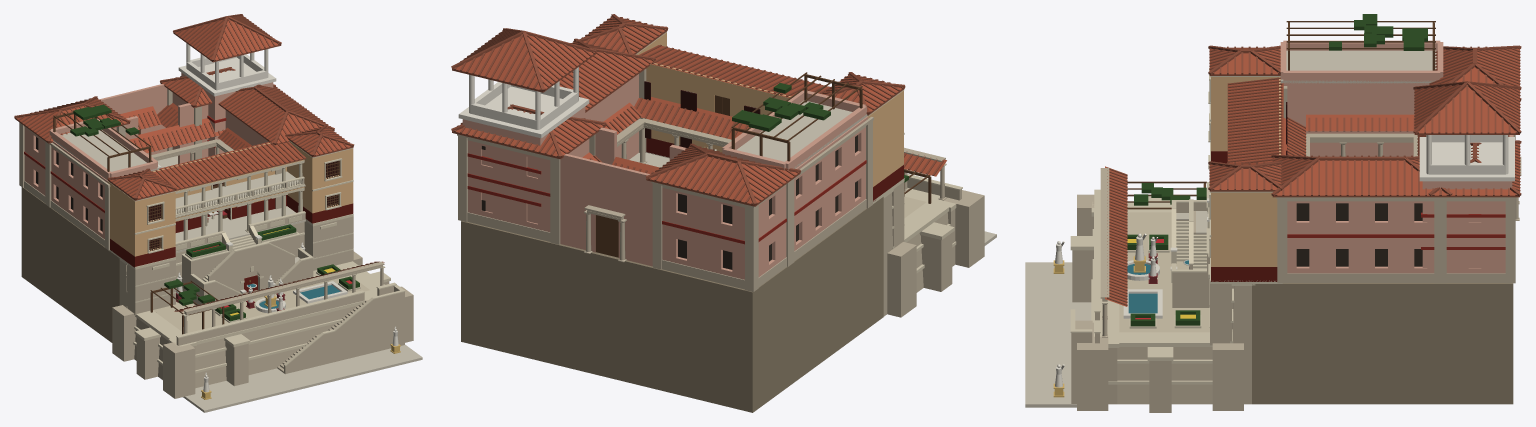
The model's file is rome_domus_b_belt.glb.
The picture shows the model from 3 angles, left to right: view 1: azimuth 30°, elevation 25°; view 2: azimuth 150°, elevation 25°; view 3: azimuth 270°, elevation 25°; orthographic projection. The views are drawn at different scales.
Parts seen in each view (by area): view 1: rome_domus_b_belt; view 2: rome_domus_b_belt; view 3: rome_domus_b_belt.
Boxes of the visible parts, <box> form: rome_domus_b_belt: <box>14,14,422,412</box>; rome_domus_b_belt: <box>451,14,996,412</box>; rome_domus_b_belt: <box>1025,14,1521,412</box>.
Size of the model in its own units: 33.9 by 30.12 by 44.24.
